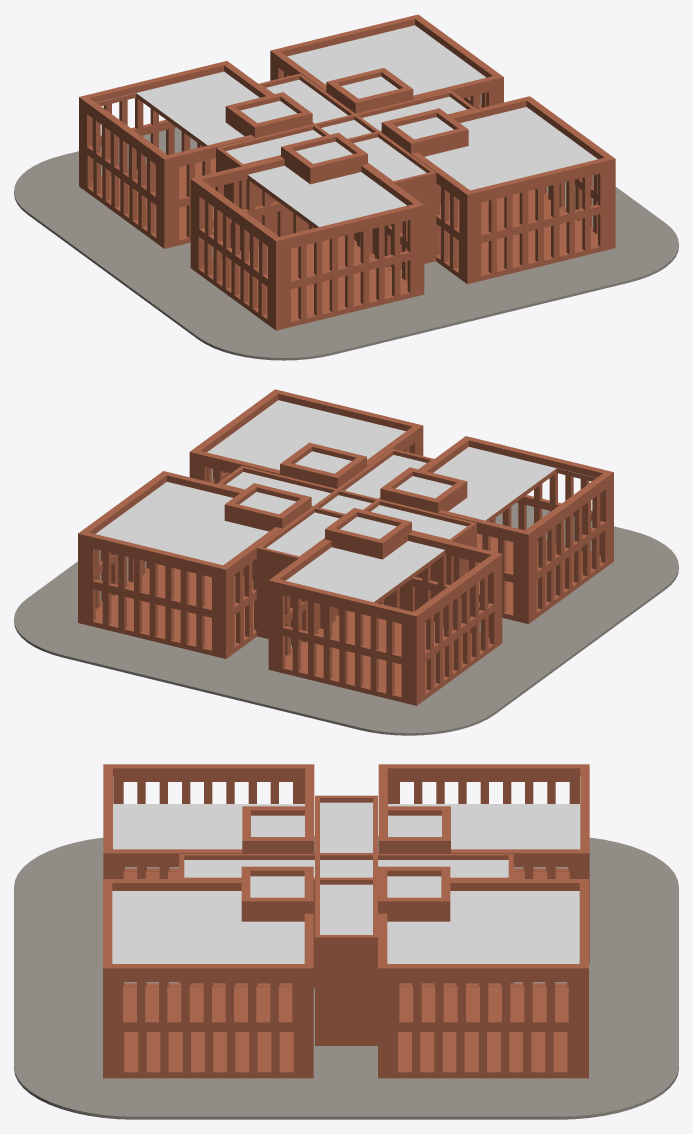
The model's file is minimap.fbx.
3 renders of one model, top to bottom at view 1: azimuth 30°, elevation 25°; view 2: azimuth 150°, elevation 25°; view 3: azimuth 270°, elevation 25°, orthographic. The views are drawn at different scales.
Parts seen in each view (by area): view 1: Plane, B11, B13, B12, B14, B01, hall, B03, B02; view 2: Plane, B12, B14, B11, B13, B02, hall, B04, B01; view 3: Plane, B13, B14, hall, B12, B11, B04, B03.
Part boxes in pixels (x1,y1,x2,y2): Plane: (14,93,678,360); B11: (190,132,424,288); B13: (381,96,615,242); B12: (79,61,312,207); B14: (270,14,503,113); B01: (190,206,424,330); hall: (216,73,476,269); B03: (436,181,615,284); B02: (79,124,215,248); Plane: (14,468,678,735); B12: (268,508,502,664); B14: (78,471,311,617); B11: (380,436,613,582); B13: (189,389,423,488); B02: (268,581,502,705); hall: (217,448,476,644); B04: (78,556,256,658); B01: (477,500,613,623); Plane: (14,835,678,1119); B13: (103,866,313,1027); B14: (378,866,588,1027); hall: (179,795,513,1045); B12: (378,764,589,912); B11: (103,764,314,878); B04: (378,982,588,1078); B03: (103,982,313,1078).
Size of the model in its own units: 631 by 631 by 132.
